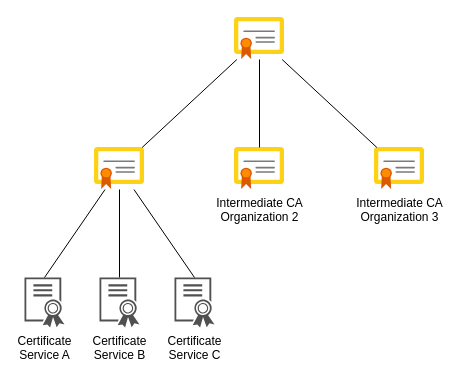
Some shapes in this 460 by 380 pixel diagram are drawn without their labels. The centre of each missing label's shape, as x and y in pixels:
Intermediate CA Organization 1: [119,168]
Root CA Certificate Trustee: [259,38]
